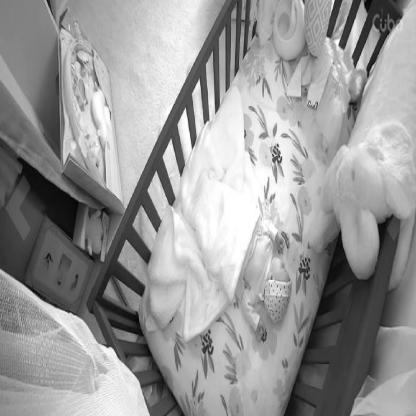baby: (238, 220, 292, 343)
